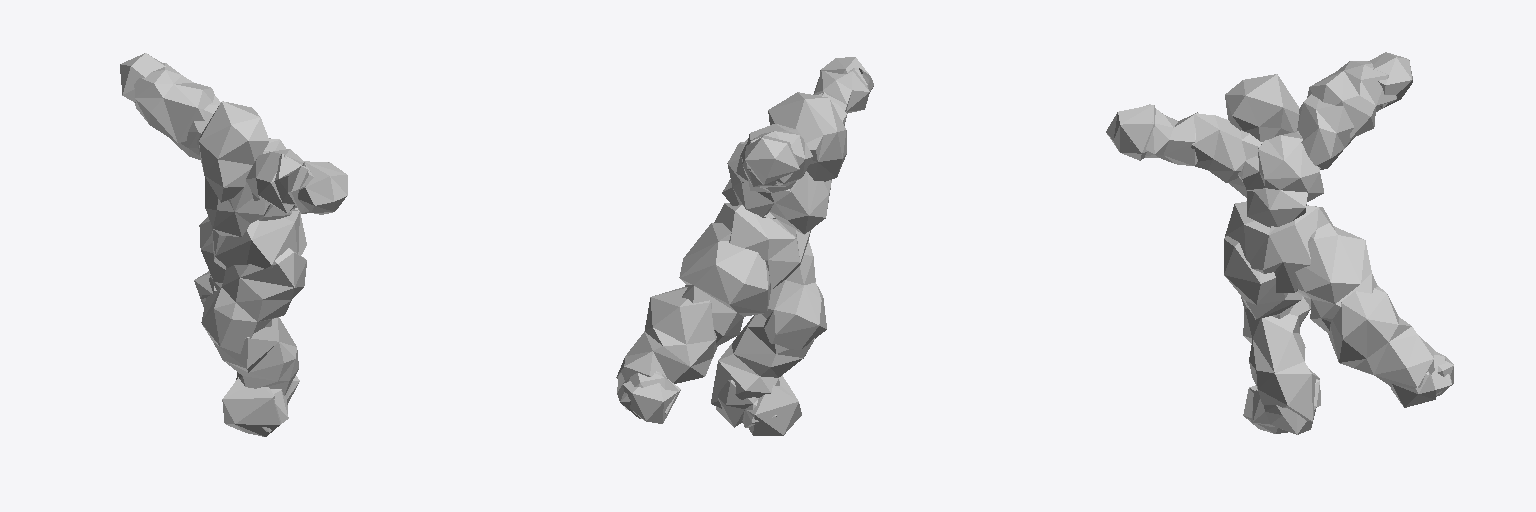
Rendered from dance_frames0358.obj.
The picture shows the model from 3 angles: view 1: azimuth 30°, elevation 25°; view 2: azimuth 150°, elevation 25°; view 3: azimuth 270°, elevation 25°; orthographic projection.
Visible parts, largest first — view 1: Beta_Surface; view 2: Beta_Surface; view 3: Beta_Surface.
Part boxes in pixels (x1,y1,x2,y2): Beta_Surface: (120, 53, 347, 436); Beta_Surface: (616, 57, 873, 435); Beta_Surface: (1106, 52, 1453, 434).
Bounding box in the file's own units: 1.01 × 2.01 × 1.83.